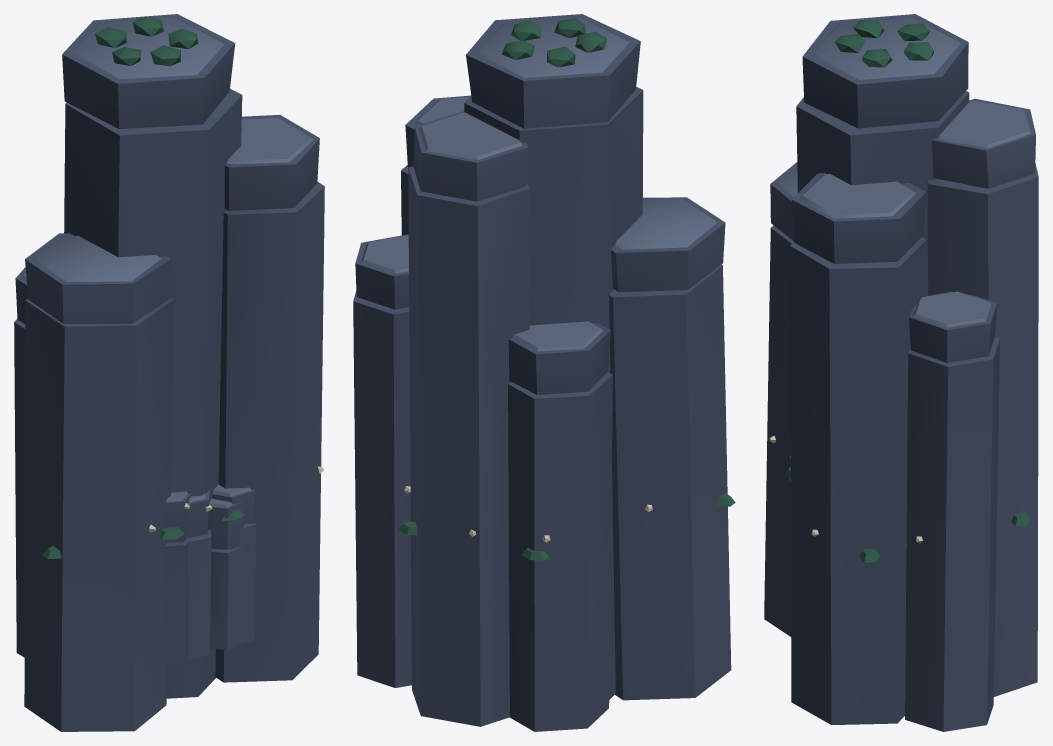
The model's file is reef_env.glb.
The picture shows the model from 3 angles, left to right: view 1: azimuth 30°, elevation 25°; view 2: azimuth 150°, elevation 25°; view 3: azimuth 270°, elevation 25°; orthographic projection. The views are drawn at different scales.
Visible parts, largest first — view 1: stack, rim_c, rim_a, rim_b; view 2: stack; view 3: stack.
Part boxes in pixels (box(x1,y1,x2,y2)): stack: box(14, 14, 324, 731); rim_c: box(159, 491, 244, 664); rim_a: box(171, 490, 212, 659); rim_b: box(212, 484, 255, 643); stack: box(353, 14, 735, 731); stack: box(764, 14, 1038, 731).
Bounding box in the file's own units: 3.61 × 7.29 × 2.91.
